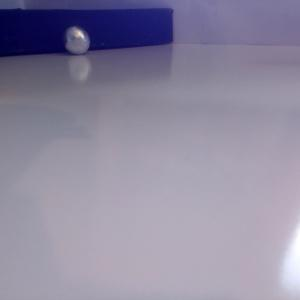zone: (1, 8, 173, 57)
